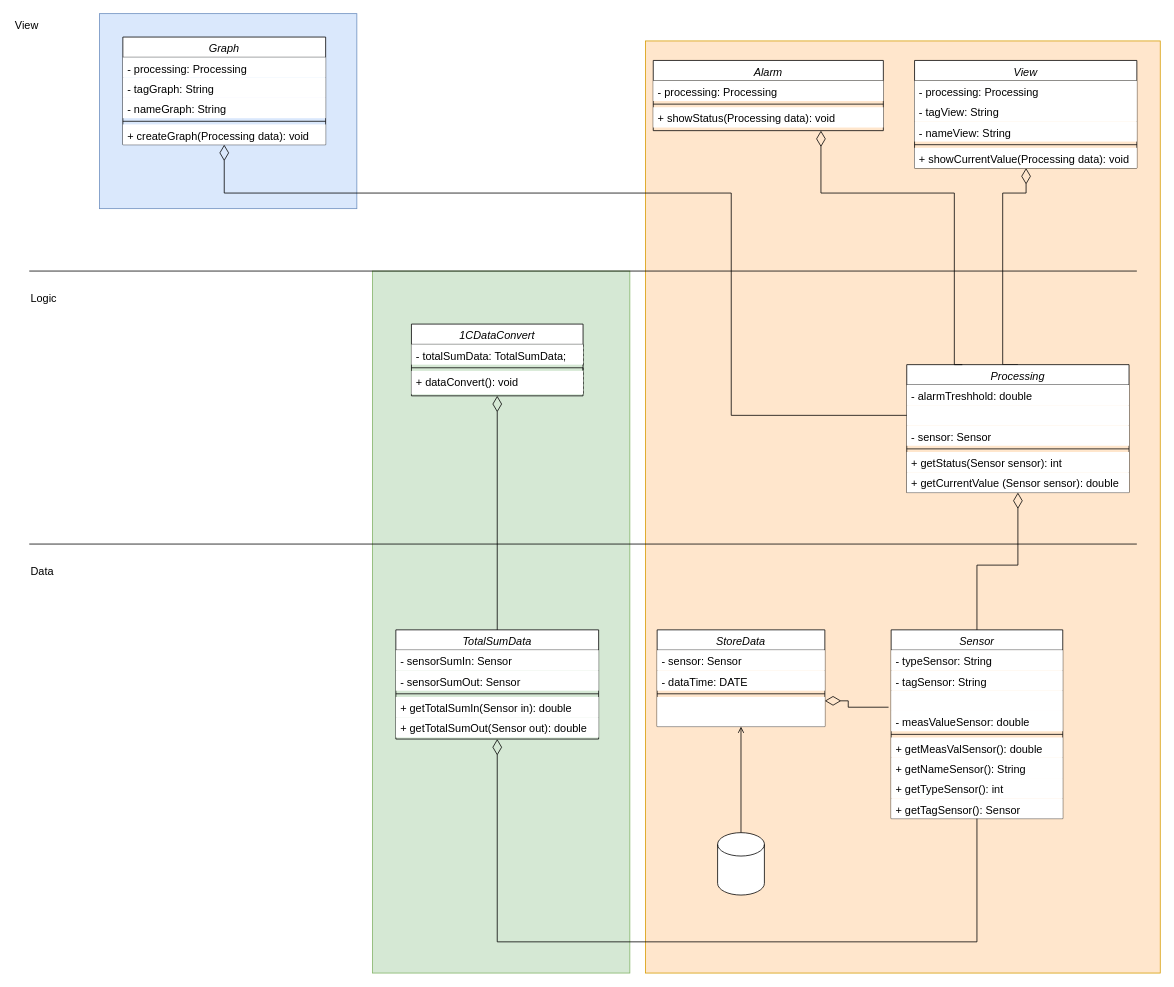
The diagram is 1174 pixels wide and 987 high, and some of its shapes have lost their labels. The shapes that lost their labels are listed below. From the top down, each one's centre as x and y in pixels, then its label:
At (1017,415): "- faultTreshhold: double".
At (740,711): "+ saveDataSensor(Sensor data): void".
At (976,700): "- nameSensor: String".
At (740,863): "DB".
